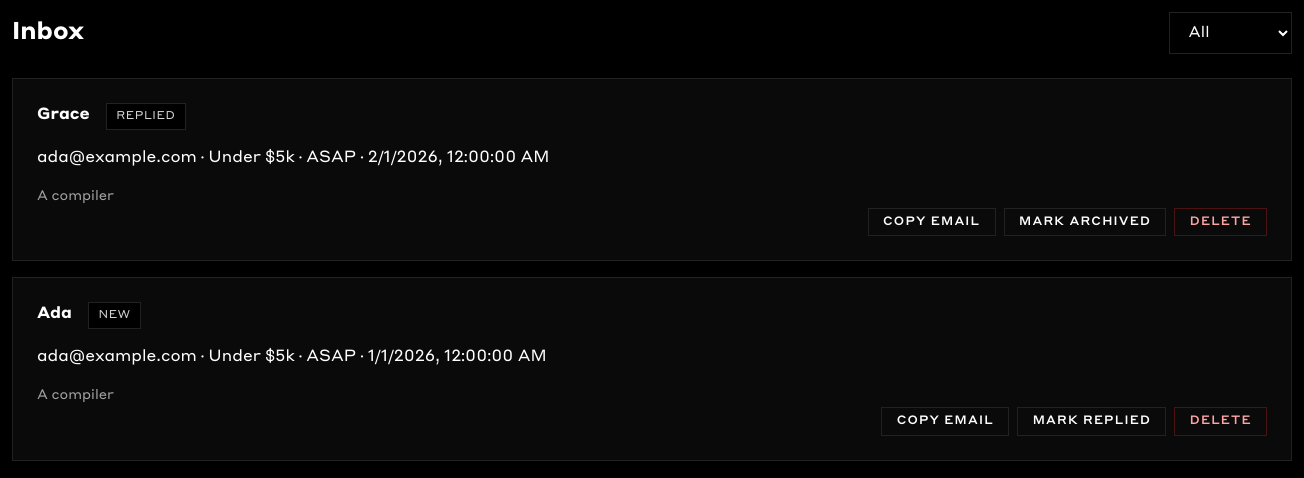
Scenario: InboxTab › filters by status and explains an empty filtered list
The width and height of the screenshot is (1304, 478).
Select "Archived" in the dropdown named "Filter by status" at (1231, 33), box x1=1169 y1=12 x2=1292 y2=54
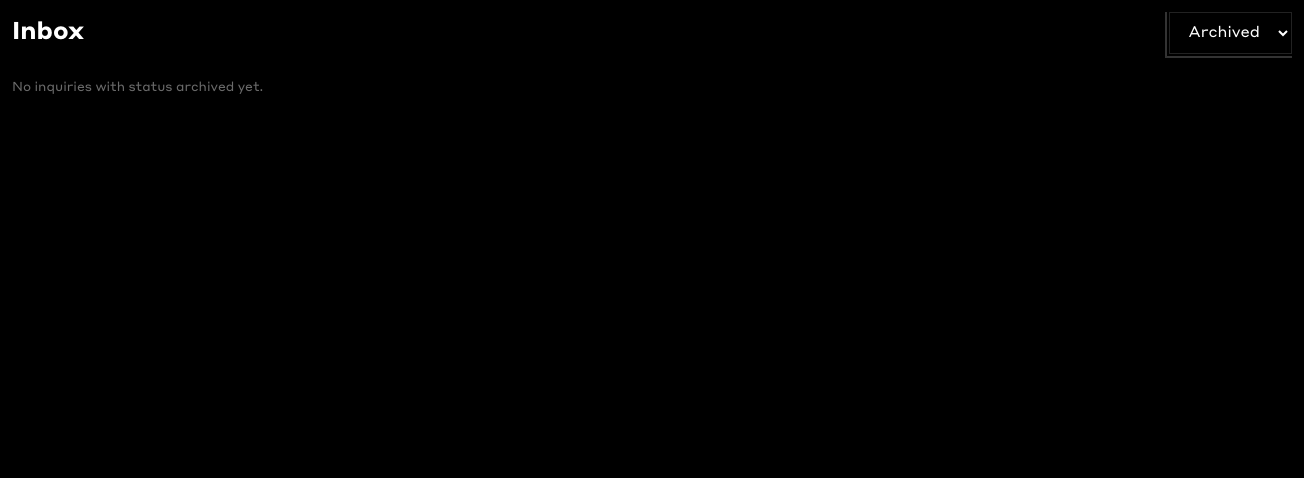
Now the text "No inquiries with status archived yet." is shown, box x1=12 y1=81 x2=263 y2=94
